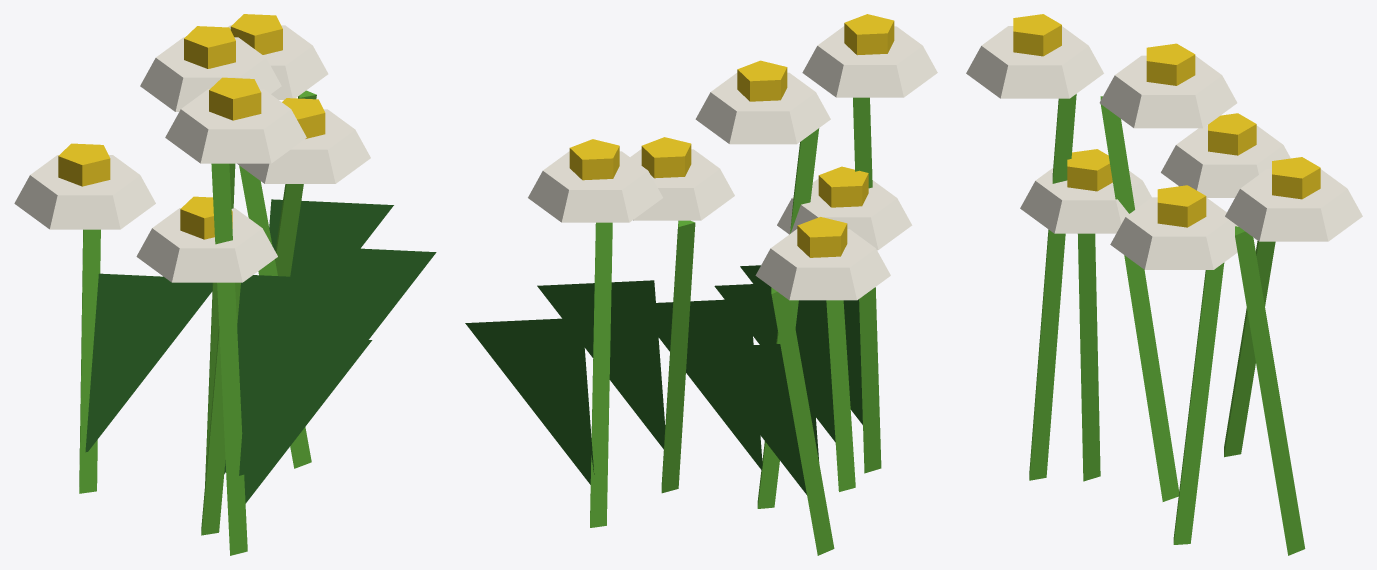
The model's file is flower_patch_2.glb.
3 renders of one model, left to right at view 1: azimuth 30°, elevation 25°; view 2: azimuth 150°, elevation 25°; view 3: azimuth 270°, elevation 25°, orthographic. The views are drawn at different scales.
Visible parts, largest first — view 1: flower_patch_2; view 2: flower_patch_2; view 3: flower_patch_2.
Boxes of the visible parts, x1=… form: flower_patch_2: x1=14, y1=14, x2=436, y2=555; flower_patch_2: x1=465, y1=14, x2=937, y2=555; flower_patch_2: x1=966, y1=14, x2=1362, y2=555.
Size of the model in its own units: 0.5789 by 0.652 by 0.5171.
